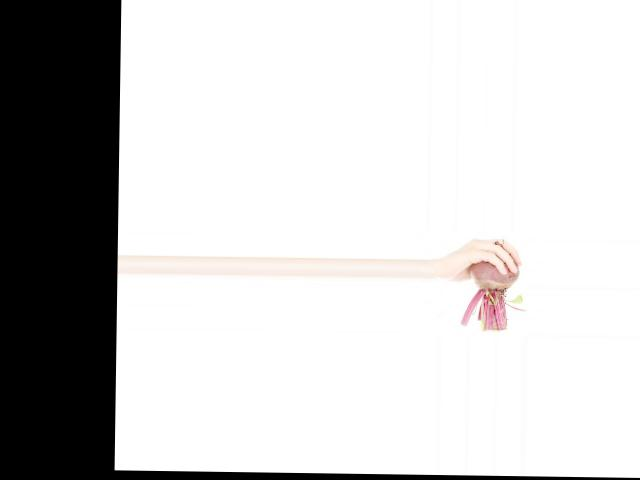beet: (460, 239, 526, 331)
